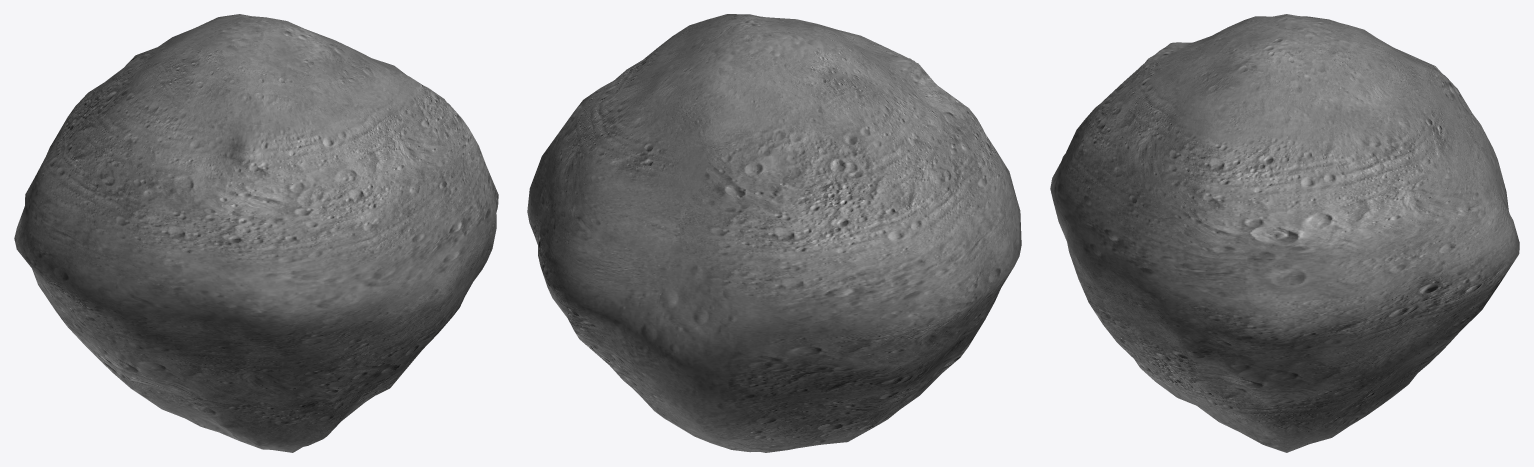
The model's file is Bennu_1_1.gltf.
3 renders of one model, left to right at view 1: azimuth 30°, elevation 25°; view 2: azimuth 150°, elevation 25°; view 3: azimuth 270°, elevation 25°, orthographic. The views are drawn at different scales.
Parts seen in each view (by area): view 1: bennu; view 2: bennu; view 3: bennu.
Part boxes in pixels (x1,y1,x2,y2): bennu: (14, 14, 498, 452); bennu: (527, 14, 1021, 452); bennu: (1050, 14, 1519, 452).
Bounding box in the file's own units: 565 × 508 × 535.
1 material, 1 textured.
